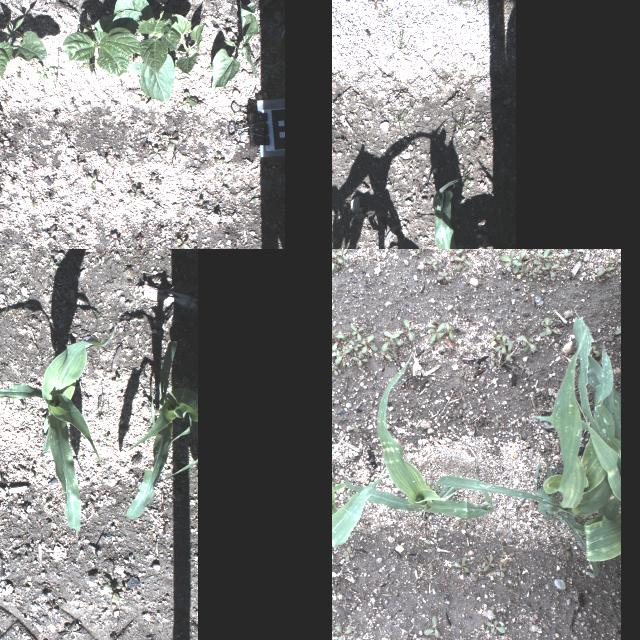crop: (434, 315, 620, 577), (343, 352, 493, 518), (39, 328, 115, 530), (125, 340, 197, 518), (332, 380, 388, 547), (93, 0, 181, 102), (62, 12, 142, 78), (429, 176, 495, 249), (211, 0, 261, 90), (0, 16, 45, 80), (162, 11, 206, 75), (0, 381, 38, 449), (166, 458, 198, 476)
weed: (394, 320, 414, 340), (357, 334, 377, 354), (452, 252, 472, 272), (494, 333, 514, 352), (427, 322, 445, 343), (34, 62, 54, 80), (518, 334, 536, 354), (334, 345, 352, 365), (423, 615, 439, 637), (500, 250, 522, 266), (162, 130, 178, 150), (103, 581, 119, 601), (382, 331, 398, 351), (147, 144, 165, 160), (453, 555, 471, 571), (96, 380, 104, 414), (86, 172, 102, 188), (335, 624, 351, 640), (352, 350, 368, 366), (542, 260, 558, 276), (498, 342, 512, 360), (513, 252, 525, 272), (128, 183, 144, 197), (230, 134, 246, 148), (351, 324, 364, 341), (332, 250, 342, 272), (486, 620, 504, 632), (383, 332, 401, 344), (597, 265, 615, 277), (194, 198, 208, 212), (458, 514, 472, 528), (104, 232, 120, 244), (219, 22, 235, 34), (540, 317, 552, 333), (182, 92, 195, 106), (482, 555, 493, 571), (536, 249, 553, 259), (250, 188, 262, 202), (558, 544, 572, 556), (529, 265, 543, 277), (69, 159, 85, 169), (538, 329, 558, 337), (488, 332, 504, 342), (43, 230, 55, 243), (342, 546, 353, 560), (148, 172, 160, 184), (445, 322, 453, 340), (175, 238, 188, 249), (496, 563, 506, 577), (348, 339, 362, 349), (336, 249, 348, 260), (332, 330, 345, 340), (336, 348, 344, 364), (332, 334, 340, 350), (214, 152, 226, 162), (590, 344, 600, 356), (425, 260, 437, 270), (346, 422, 360, 430), (520, 262, 528, 276), (379, 349, 391, 358), (436, 272, 449, 280), (426, 478, 436, 488), (185, 220, 193, 232), (473, 568, 481, 580), (358, 524, 370, 532), (487, 353, 495, 365), (125, 173, 134, 183), (403, 628, 412, 638), (571, 249, 579, 260), (517, 364, 529, 371), (564, 250, 578, 256), (48, 260, 58, 268), (610, 256, 620, 264), (454, 249, 471, 253), (113, 376, 121, 384), (136, 316, 146, 322), (614, 324, 620, 334), (332, 364, 338, 374), (534, 259, 544, 265), (494, 414, 498, 428), (102, 157, 106, 167), (104, 436, 110, 442), (26, 407, 32, 413), (423, 540, 431, 544), (189, 0, 199, 3)
